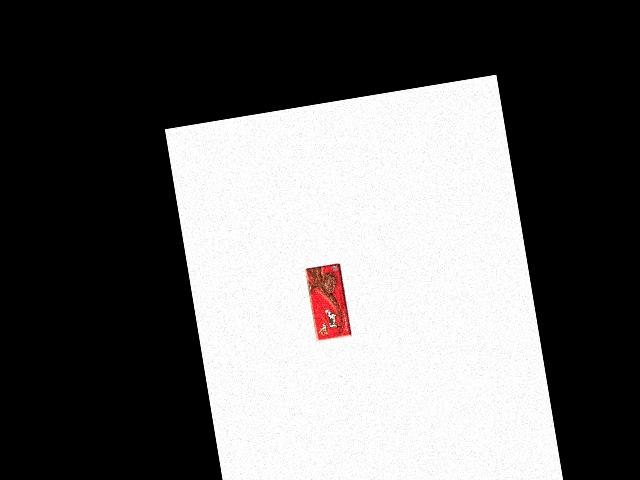chocolate: (303, 260, 356, 344)
